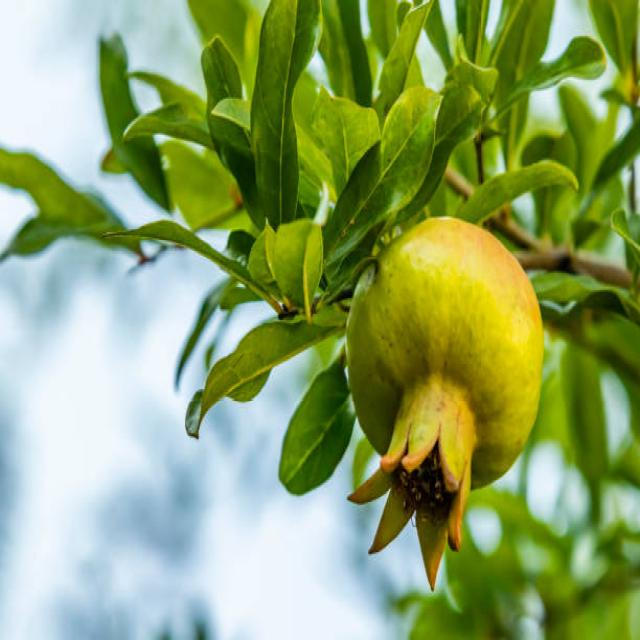Unripe: (347, 212, 544, 593)
